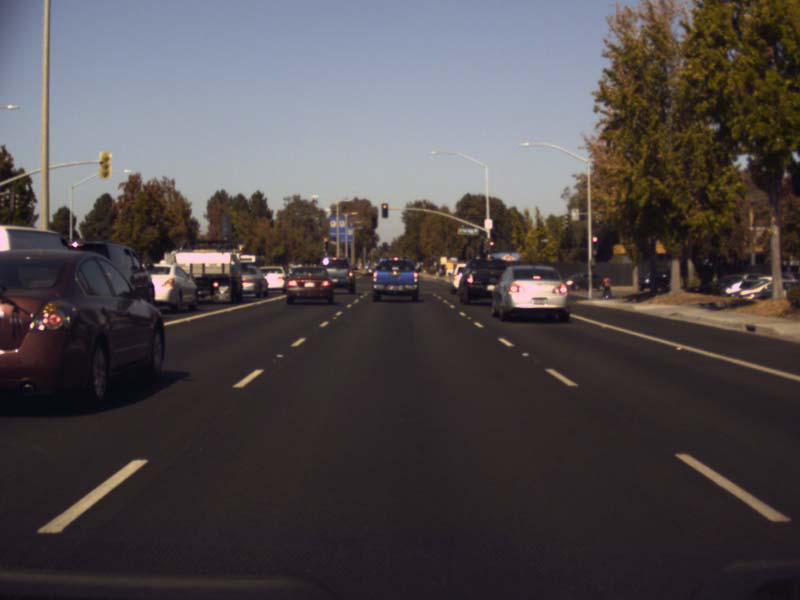Red: (591, 236, 596, 251), (382, 203, 387, 217), (323, 236, 328, 250), (489, 239, 494, 247)
